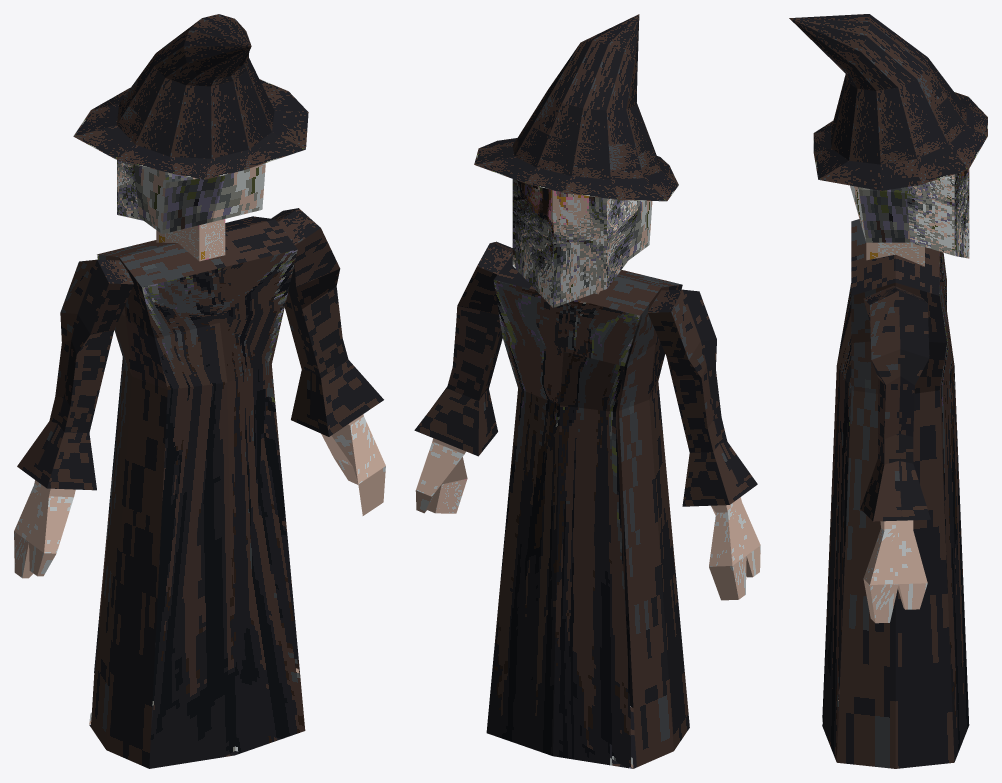
File: mago-player-0.glb
3 renders of one model, left to right at view 1: azimuth 30°, elevation 25°; view 2: azimuth 150°, elevation 25°; view 3: azimuth 270°, elevation 25°, orthographic. The views are drawn at different scales.
Parts seen in each view (by area): view 1: up-body, arm (×2), hat, head; view 2: up-body, arm (×2), hat, head; view 3: up-body, hat, arm, head.
Part boxes in pixels (left/top/right/bottom): up-body: left=89, top=216, right=305, bottom=768; arm (×2): left=14, top=208, right=385, bottom=578; hat: left=73, top=14, right=308, bottom=179; head: left=117, top=159, right=265, bottom=261; up-body: left=486, top=255, right=689, bottom=768; arm (×2): left=414, top=241, right=760, bottom=600; hat: left=474, top=14, right=678, bottom=201; head: left=512, top=179, right=652, bottom=307; up-body: left=822, top=219, right=969, bottom=768; hat: left=789, top=14, right=987, bottom=190; arm: left=860, top=285, right=930, bottom=623; head: left=850, top=169, right=969, bottom=266.
Size of the model in its own units: 1.67 by 3.32 by 0.8446.
Materials: 2 (1 with a texture image).
